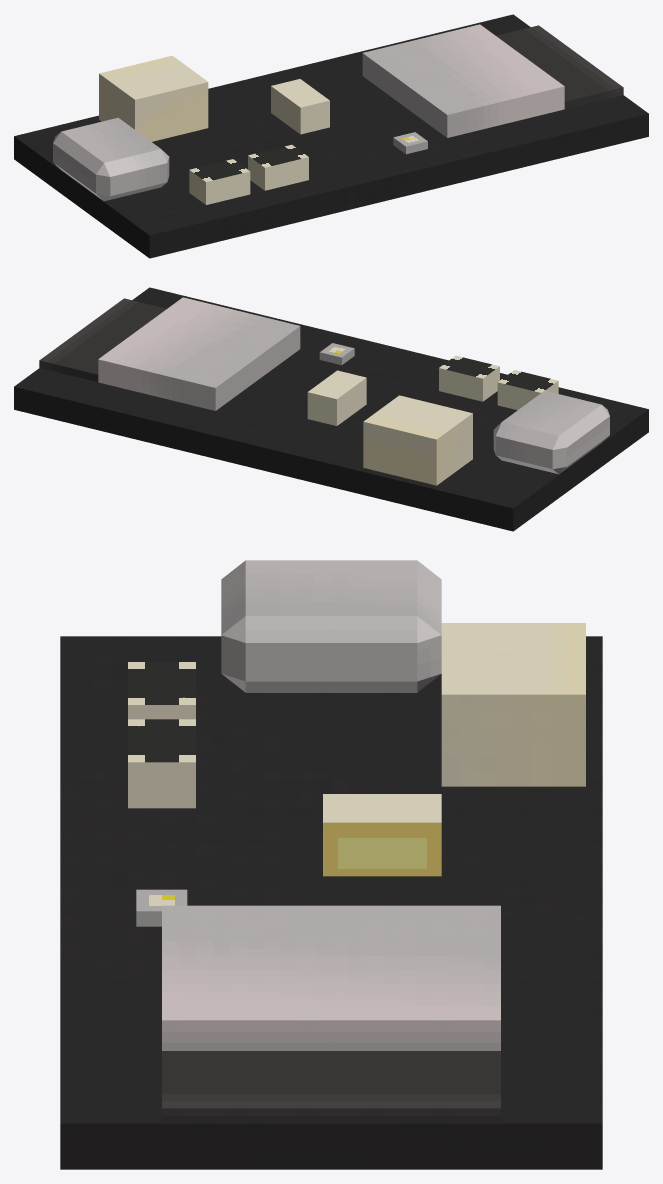
The model's file is adafruit_esp32-c6_feather.gltf.
3 views of the same model, one above another, from view 1: azimuth 30°, elevation 25°; view 2: azimuth 150°, elevation 25°; view 3: azimuth 270°, elevation 25° (orthographic). The views are drawn at different scales.
Visible parts, largest first — view 1: base, esp32-c6, button0, usb-c, antenna, stemma0, battery, button1, neopixel; view 2: base, esp32-c6, button0, usb-c, antenna, stemma0, button1, battery, neopixel; view 3: base, esp32-c6, usb-c, antenna, button0, stemma0, button1, battery, neopixel.
Boxes of the visible parts, x1,y1,x2,y2 form: base: (14, 14, 648, 258); esp32-c6: (362, 24, 564, 137); button0: (99, 55, 208, 141); usb-c: (53, 117, 169, 201); antenna: (496, 25, 623, 109); stemma0: (271, 79, 329, 134); battery: (189, 159, 250, 204); button1: (248, 144, 308, 190); neopixel: (393, 132, 427, 154); base: (14, 287, 648, 531); esp32-c6: (98, 297, 300, 410); button0: (363, 395, 472, 485); usb-c: (493, 390, 609, 474); antenna: (39, 298, 166, 382); stemma0: (307, 370, 366, 425); button1: (439, 355, 499, 401); battery: (497, 370, 558, 410); neopixel: (319, 343, 354, 365); base: (60, 636, 602, 1169); esp32-c6: (162, 905, 500, 1050); usb-c: (221, 560, 441, 692); antenna: (162, 1051, 500, 1123); button0: (441, 623, 585, 786); stemma0: (323, 794, 441, 876); button1: (128, 719, 195, 808); battery: (128, 662, 195, 719); neopixel: (136, 889, 187, 926).
Bounding box in the file's own units: 2.16 × 0.2812 × 1.
1 material, 1 textured.
